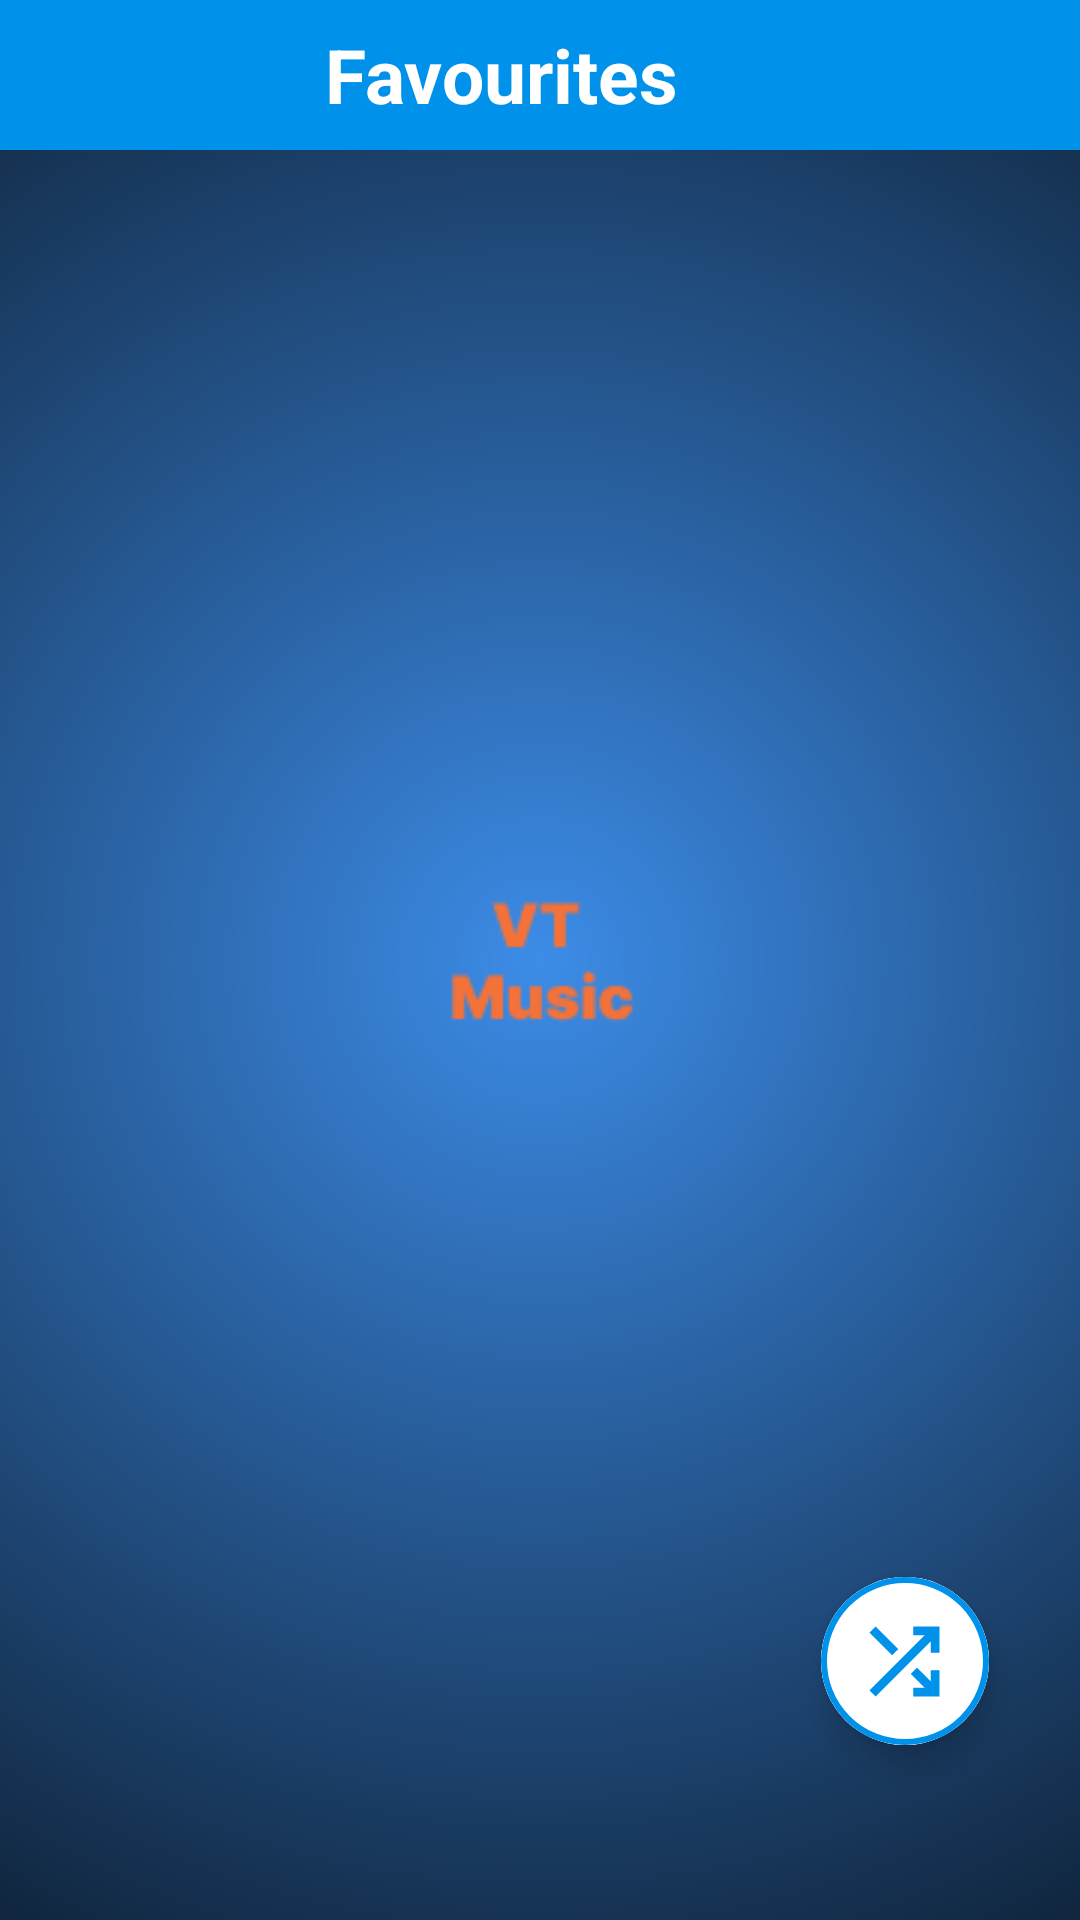

Screen size 1080 x 1920. Icon name, then its center in pixels as (x=x, y=y):
shuffle: (x=905, y=1661)
